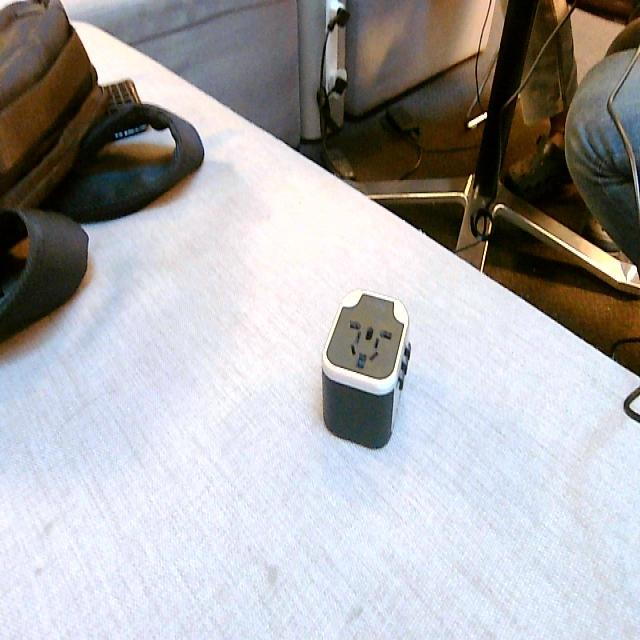adapter: (320, 287, 412, 449)
